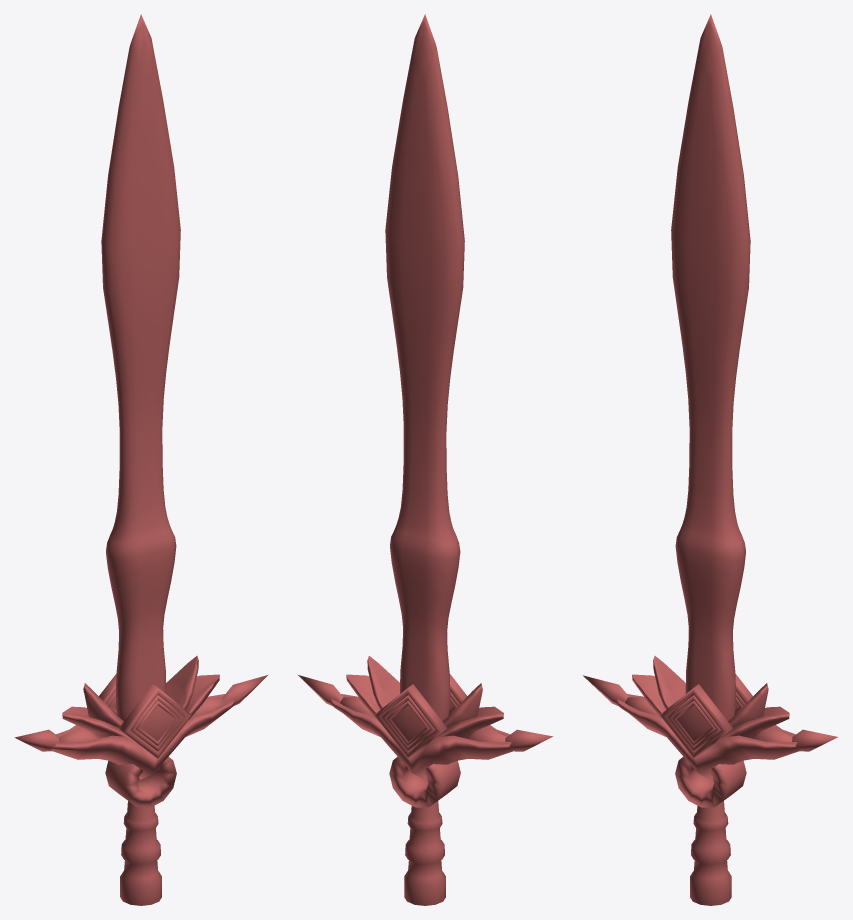
The model's file is Vitale_Edit_ForVFXMesh.fbx.
3 renders of one model, left to right at view 1: azimuth 30°, elevation 25°; view 2: azimuth 150°, elevation 25°; view 3: azimuth 330°, elevation 25°, orthographic.
Parts seen in each view (by area): view 1: gem_outer2; view 2: gem_outer2; view 3: gem_outer2.
Boxes of the visible parts, x1,y1,x2,y2 form: gem_outer2: (14, 14, 267, 905); gem_outer2: (298, 14, 553, 905); gem_outer2: (583, 14, 837, 905).
Size of the model in its own units: 43.88 by 145 by 11.32.
